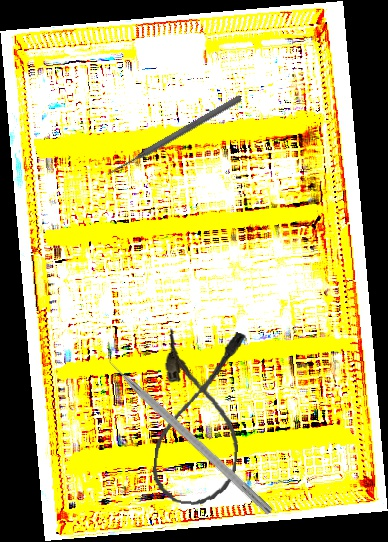Cannula: (150, 325, 250, 509)
Chopper: (95, 339, 283, 517)
Pusher: (104, 93, 244, 179)
